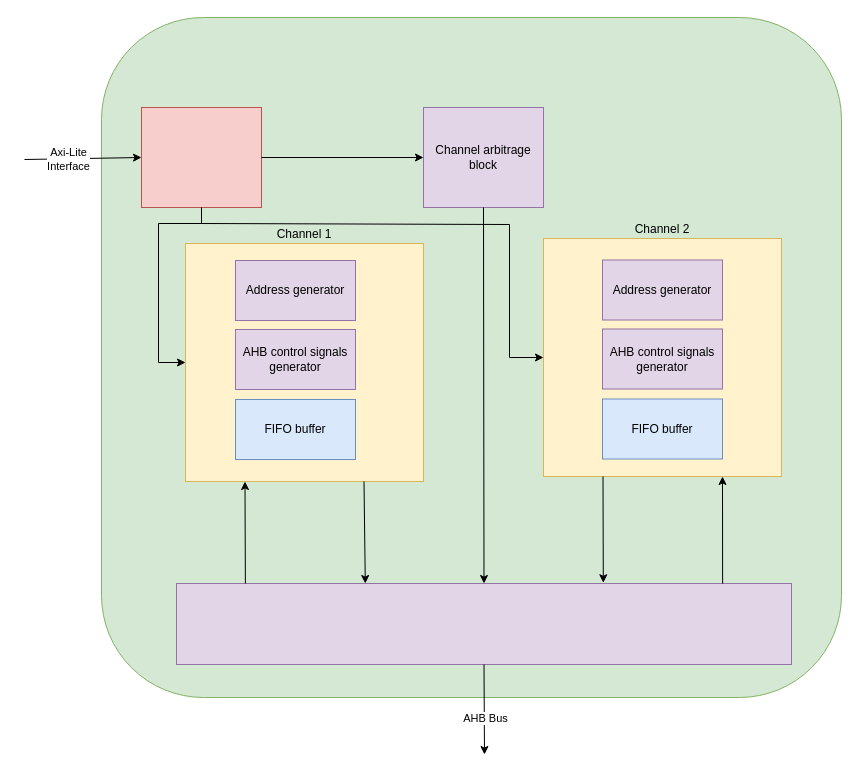
This 859x780 diagram has some shape labels left out. The centre of each missing label's shape, as x and y in pixels:
"AHB Master Interface" goes at [484,623].
"Control & State Registers" goes at [201,157].
